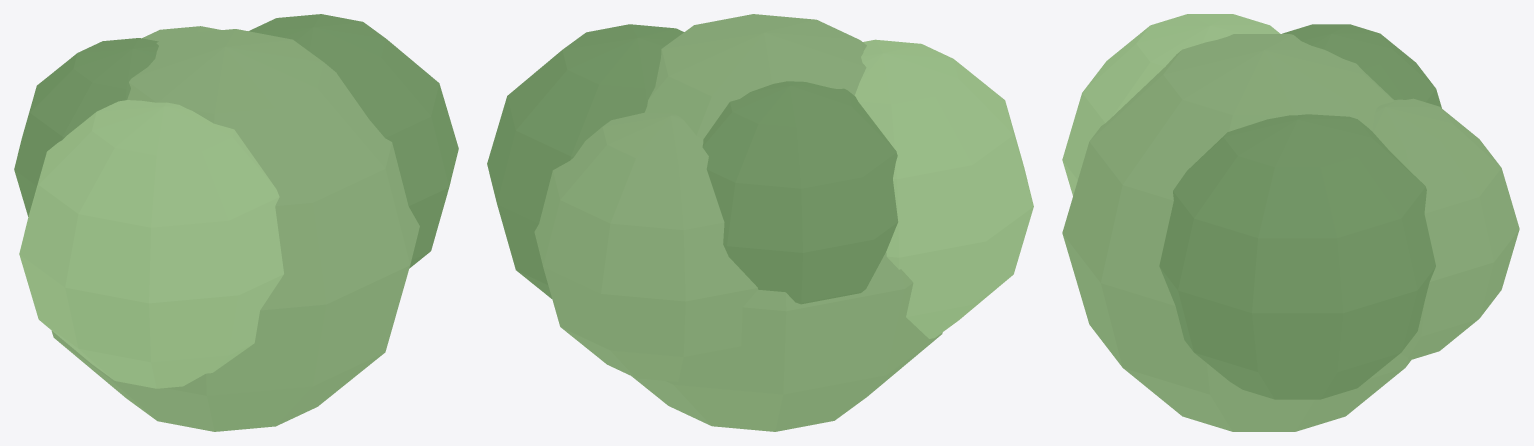
The model's file is bush.glb.
3 renders of one model, left to right at view 1: azimuth 30°, elevation 25°; view 2: azimuth 150°, elevation 25°; view 3: azimuth 270°, elevation 25°, orthographic. The views are drawn at different scales.
Parts seen in each view (by area): view 1: bush; view 2: bush; view 3: bush.
Part boxes in pixels (box(x1,y1,x2,y2)): bush: box(14, 14, 458, 431); bush: box(487, 14, 1033, 431); bush: box(1062, 14, 1519, 431).
Size of the model in its own units: 0.7485 by 0.6 by 0.68.
